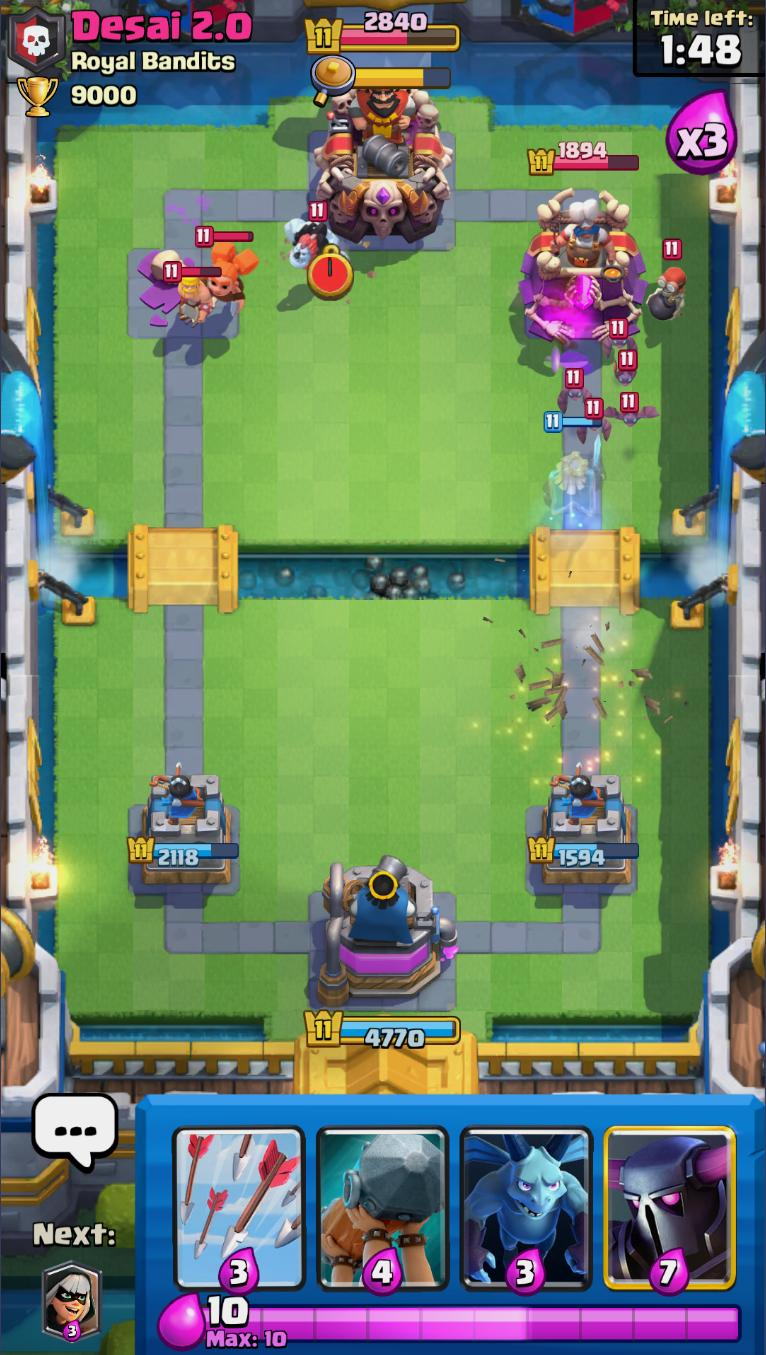ArrowDeck: (165, 1095, 314, 1296)
BanditNext: (38, 1260, 105, 1341)
Barbarian: (160, 263, 222, 329)
Bat: (550, 366, 601, 412), (602, 393, 662, 428), (576, 400, 615, 444), (602, 319, 638, 361), (610, 351, 640, 389)
BattleRamDeck: (310, 1095, 455, 1299)
Berserker: (194, 227, 260, 314)
Bomber: (643, 238, 693, 324)
Chef: (552, 199, 618, 273)
Elixir: (203, 1293, 748, 1351)
EnemyTower: (516, 186, 651, 346)
EnemyTowerBrocken: (128, 244, 242, 344)
IceGolem: (281, 200, 353, 273)
KingTower: (310, 85, 456, 241)
KingTowerHP: (302, 10, 463, 56)
MinionsDeck: (450, 1096, 604, 1298)
MyKingHP: (301, 1006, 463, 1053)
MyKingTower: (315, 856, 460, 1008)
MyPrincessTower: (126, 766, 238, 891), (539, 771, 638, 889)
MyPrincessTowerHP: (525, 832, 642, 870), (126, 835, 243, 868)
MyRoyaleGhost: (540, 410, 607, 535)
PekkaDeck: (599, 1098, 744, 1296)
TowerPrincessHP: (528, 138, 641, 178)
